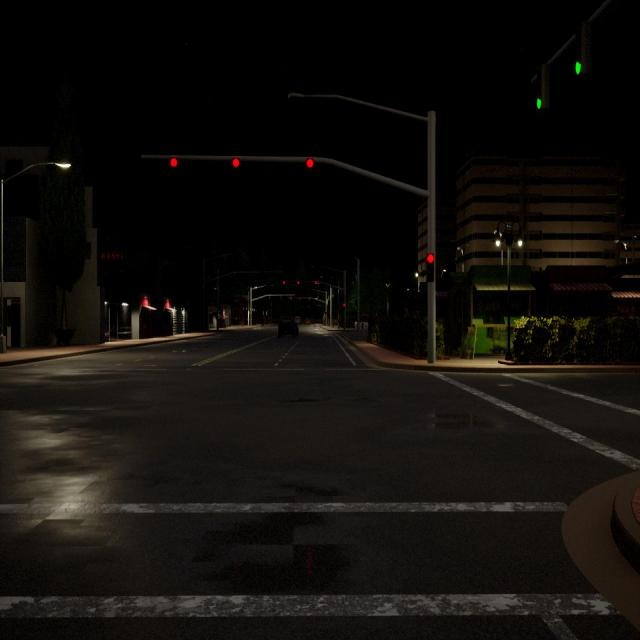Vehicle: (277, 318, 299, 338), (294, 316, 302, 326), (305, 318, 310, 326)
traffic_light: (574, 24, 591, 74), (536, 64, 550, 109), (426, 252, 434, 282), (232, 158, 240, 168), (306, 158, 314, 168), (170, 157, 177, 168), (282, 280, 286, 284), (314, 281, 317, 284), (297, 280, 299, 284), (343, 304, 345, 308), (298, 297, 300, 300), (308, 297, 310, 300), (290, 297, 292, 299)
